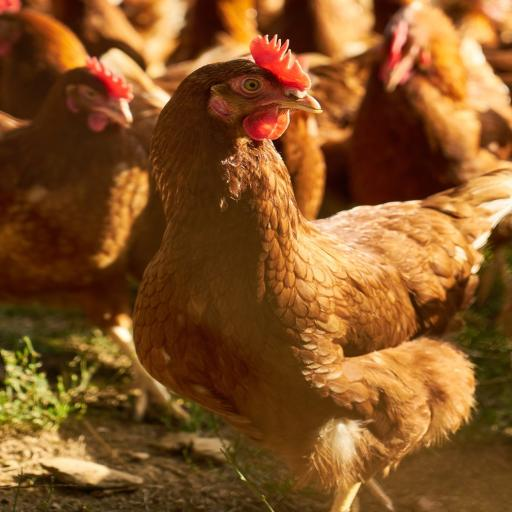healthy: (201, 22, 322, 135)
